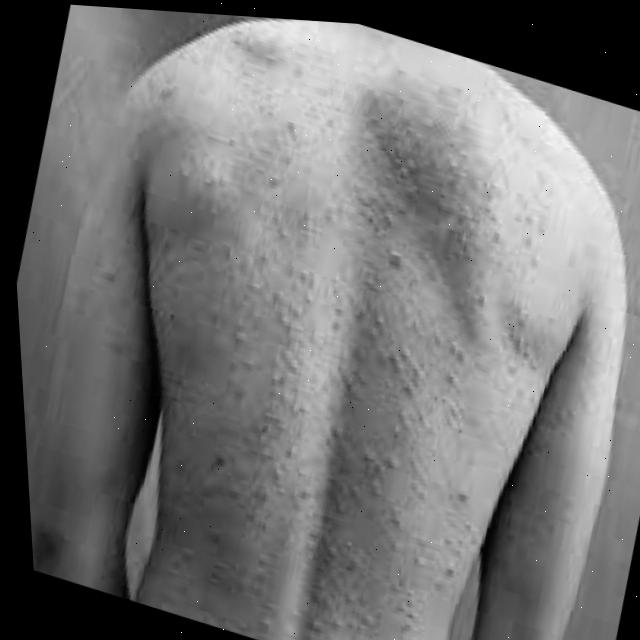Eczema: (67, 11, 609, 640)
